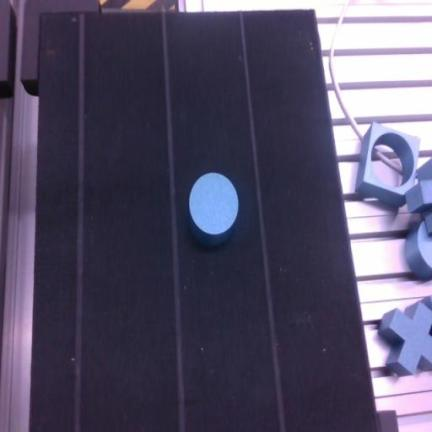cylinder: (189, 172, 238, 246)
